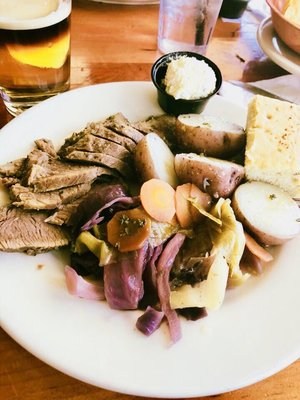pizza: (0, 0, 73, 115), (156, 0, 224, 57)
sandwich: (224, 79, 299, 106)
soup: (243, 97, 300, 204)
sushi: (151, 51, 223, 116), (266, 0, 300, 57)
